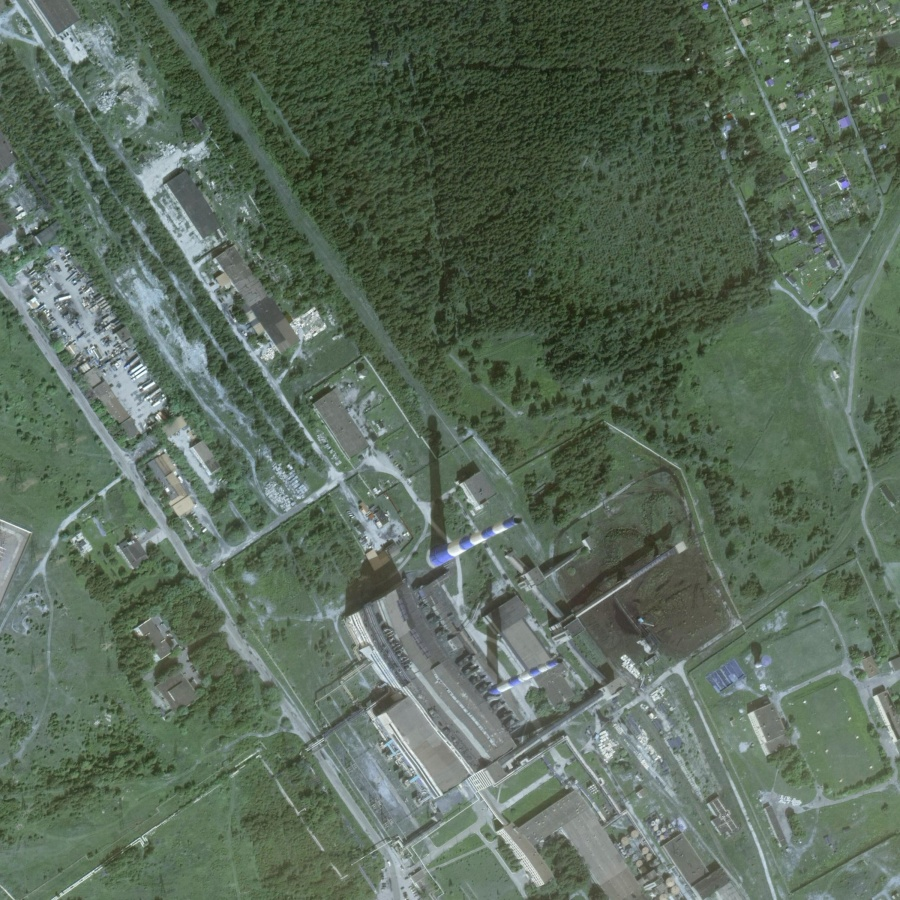PowerPlant: (396, 442, 702, 825)
